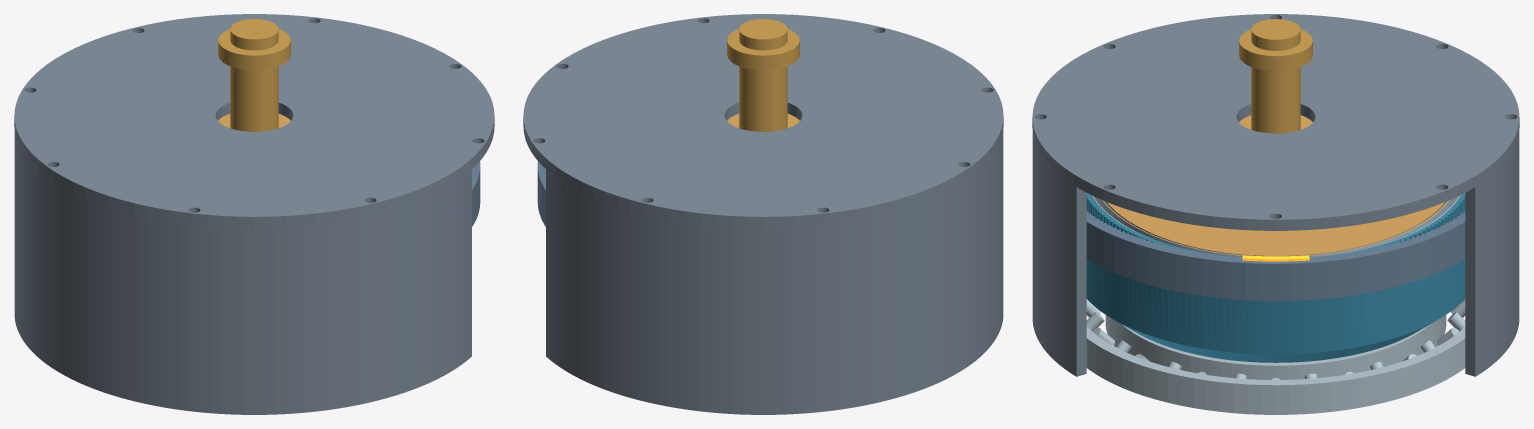
The model's file is harmonic-drive.glb.
3 views of the same model, side by side, from view 1: azimuth 30°, elevation 25°; view 2: azimuth 150°, elevation 25°; view 3: azimuth 270°, elevation 25° (orthographic).
Parts seen in each view (by area): view 1: housing-service-cutaway, input-endcap, input-shaft, circular-spline-internal-teeth; view 2: housing-service-cutaway, input-endcap, input-shaft, circular-spline-internal-teeth; view 3: input-endcap, flexspline-cup-external-teeth, cross-roller-bearing, housing-service-cutaway, circular-spline-internal-teeth, wave-generator-elliptical-cam, input-shaft, flexible-bearing-thin-races.
Boxes of the visible parts, left/top/right/bottom form: housing-service-cutaway: left=14, top=131, right=471, bottom=414; input-endcap: left=14, top=14, right=494, bottom=227; input-shaft: left=218, top=19, right=290, bottom=131; circular-spline-internal-teeth: left=472, top=161, right=480, bottom=226; housing-service-cutaway: left=546, top=131, right=1003, bottom=414; input-endcap: left=523, top=14, right=1003, bottom=227; input-shaft: left=727, top=19, right=799, bottom=131; circular-spline-internal-teeth: left=537, top=161, right=545, bottom=226; input-endcap: left=1032, top=14, right=1519, bottom=230; flexspline-cup-external-teeth: left=1086, top=193, right=1465, bottom=362; cross-roller-bearing: left=1086, top=299, right=1465, bottom=414; housing-service-cutaway: left=1032, top=132, right=1519, bottom=376; circular-spline-internal-teeth: left=1086, top=211, right=1465, bottom=301; wave-generator-elliptical-cam: left=1104, top=115, right=1447, bottom=256; input-shaft: left=1239, top=19, right=1312, bottom=133; flexible-bearing-thin-races: left=1090, top=194, right=1461, bottom=257.
Size of the model in its own units: 0.1186 by 0.079 by 0.1186.
